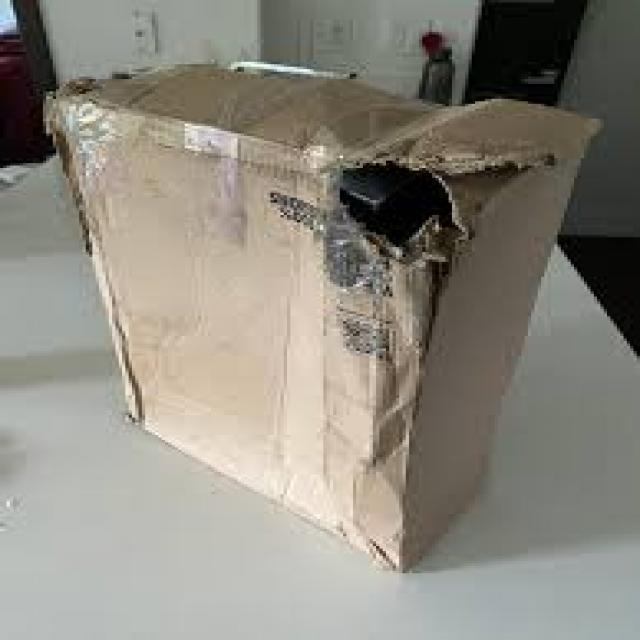hole: (318, 146, 500, 340)
